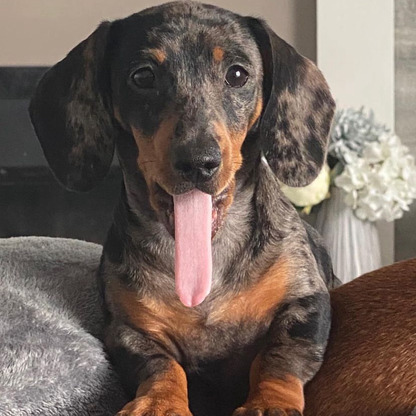dachshund: (40, 11, 347, 382)
